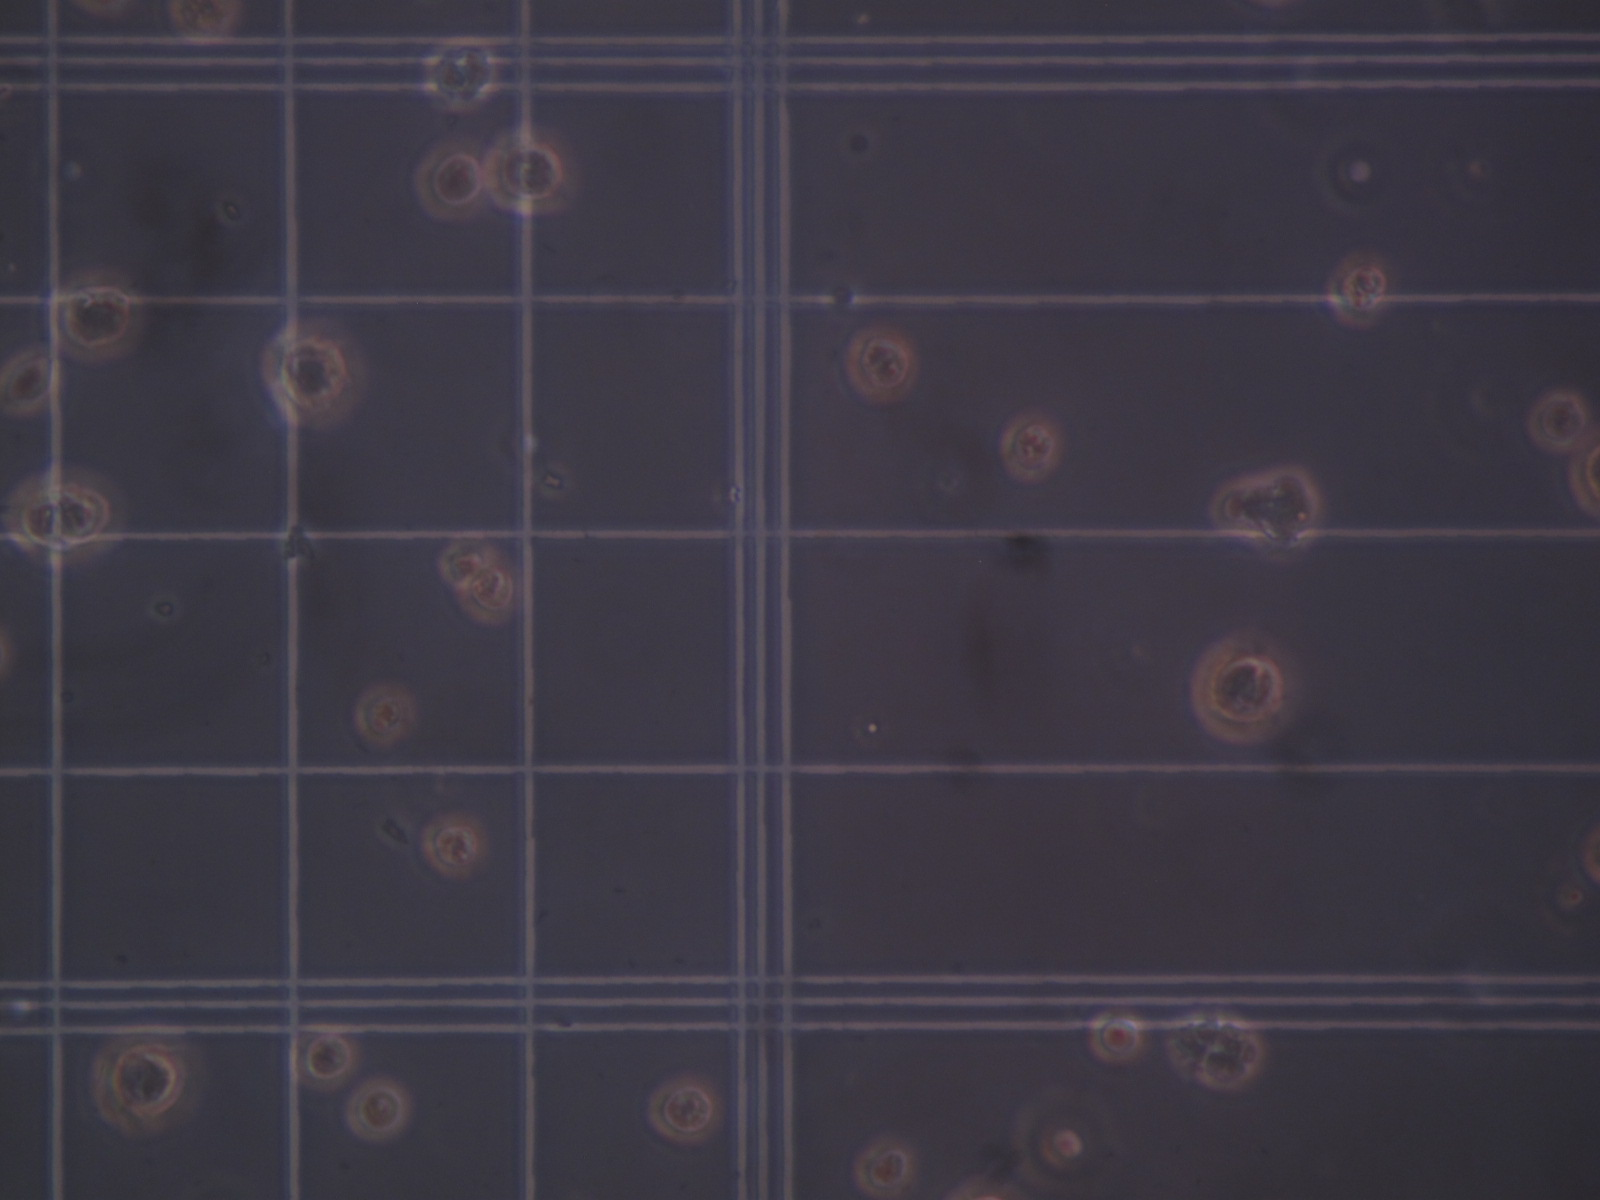hemo: (1, 461, 127, 563), (91, 1022, 205, 1134), (1191, 629, 1293, 742), (261, 324, 367, 429), (480, 124, 577, 217), (48, 271, 141, 361), (1238, 464, 1320, 556), (414, 134, 491, 221), (422, 33, 499, 108), (845, 328, 918, 407), (646, 1076, 721, 1145), (1327, 250, 1390, 326), (1318, 134, 1377, 212), (287, 1027, 359, 1092), (1002, 412, 1066, 482), (420, 814, 488, 879), (1, 345, 59, 415), (351, 681, 414, 744), (1526, 386, 1587, 450), (348, 1078, 409, 1141), (855, 1137, 917, 1197), (169, 1, 239, 43), (465, 567, 517, 624), (1089, 1010, 1141, 1064), (437, 539, 493, 589), (1036, 1123, 1086, 1174), (1570, 436, 1600, 509)
